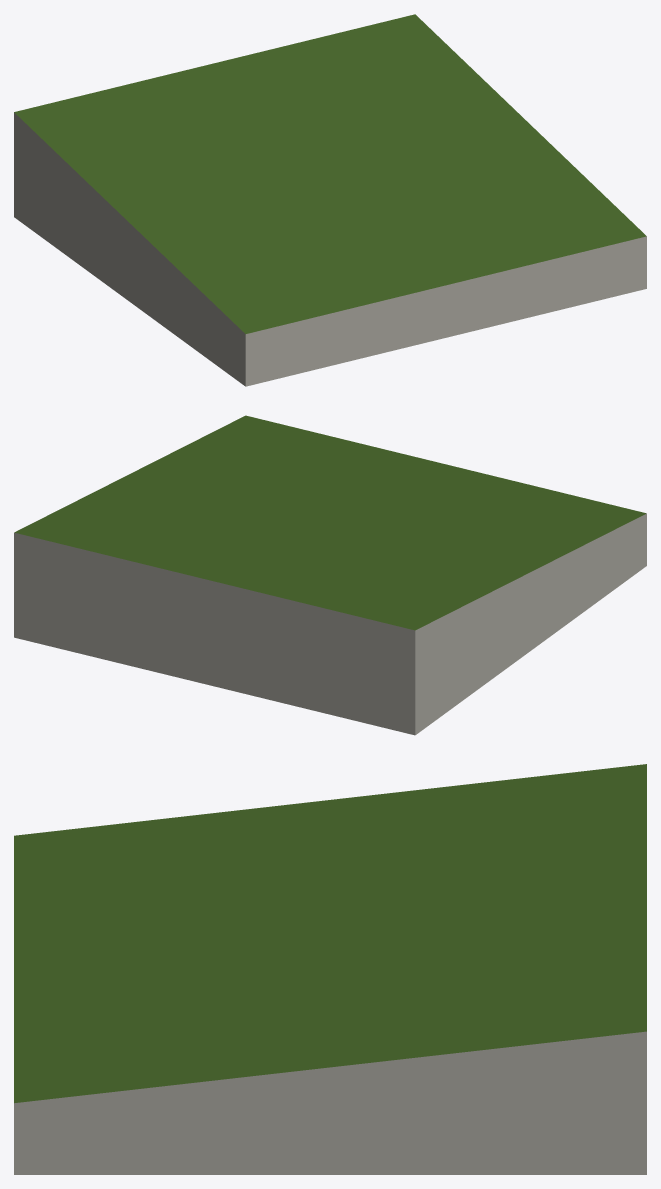
File: Terrain_Tile_Grass_Rock_Ramp_01.fbx
3 renders of one model, top to bottom at view 1: azimuth 30°, elevation 25°; view 2: azimuth 150°, elevation 25°; view 3: azimuth 270°, elevation 25°, orthographic. The views are drawn at different scales.
Parts seen in each view (by area): view 1: Model; view 2: Model; view 3: Model.
Boxes of the visible parts, x1=… form: Model: x1=14, y1=14, x2=646, y2=386; Model: x1=14, y1=415, x2=646, y2=735; Model: x1=14, y1=764, x2=646, y2=1174.
Size of the model in its own units: 2000 by 500 by 2000.
